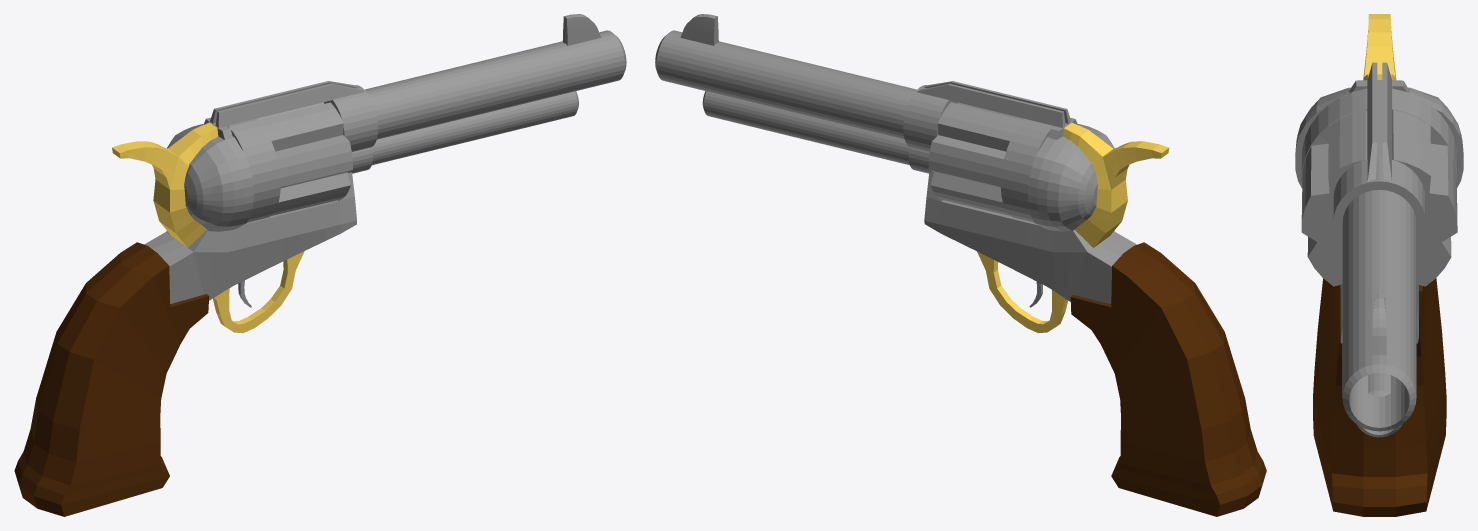
Rendered from pistol.fbx.
3 views of the same model, side by side, from view 1: azimuth 30°, elevation 25°; view 2: azimuth 150°, elevation 25°; view 3: azimuth 270°, elevation 25° (orthographic). The views are drawn at different scales.
Parts seen in each view (by area): view 1: wood_grip, barrel_top, pistol_body, Cylinder.004, barrel_bottom, chamber_back, original_hammer.001, trigger_guard; view 2: wood_grip, barrel_top, pistol_body, Cylinder.004, barrel_bottom, chamber_back, original_hammer.001, trigger_guard; view 3: barrel_top, wood_grip, Cylinder.004, pistol_body, chamber_back, original_hammer.001, barrel_bottom.
Boxes of the visible parts, bbox=[...] form: wood_grip: bbox=[14, 242, 209, 516]; barrel_top: bbox=[324, 14, 626, 151]; pistol_body: bbox=[144, 81, 364, 303]; Cylinder.004: bbox=[227, 102, 352, 222]; barrel_bottom: bbox=[347, 91, 578, 173]; chamber_back: bbox=[167, 124, 253, 231]; original_hammer.001: bbox=[112, 122, 218, 247]; trigger_guard: bbox=[213, 251, 304, 333]; wood_grip: bbox=[1070, 242, 1266, 516]; barrel_top: bbox=[655, 14, 957, 151]; pistol_body: bbox=[916, 81, 1136, 304]; Cylinder.004: bbox=[928, 102, 1053, 222]; barrel_bottom: bbox=[702, 91, 933, 173]; chamber_back: bbox=[1028, 124, 1114, 231]; original_hammer.001: bbox=[1063, 122, 1169, 247]; trigger_guard: bbox=[977, 251, 1068, 333]; barrel_top: bbox=[1333, 158, 1425, 431]; wood_grip: bbox=[1313, 278, 1446, 516]; Cylinder.004: bbox=[1301, 88, 1457, 286]; pistol_body: bbox=[1340, 62, 1418, 343]; chamber_back: bbox=[1295, 87, 1463, 188]; original_hammer.001: bbox=[1363, 14, 1396, 88]; barrel_bottom: bbox=[1356, 373, 1402, 437].
Bounding box in the file's own units: 484 × 281 × 83.9.
